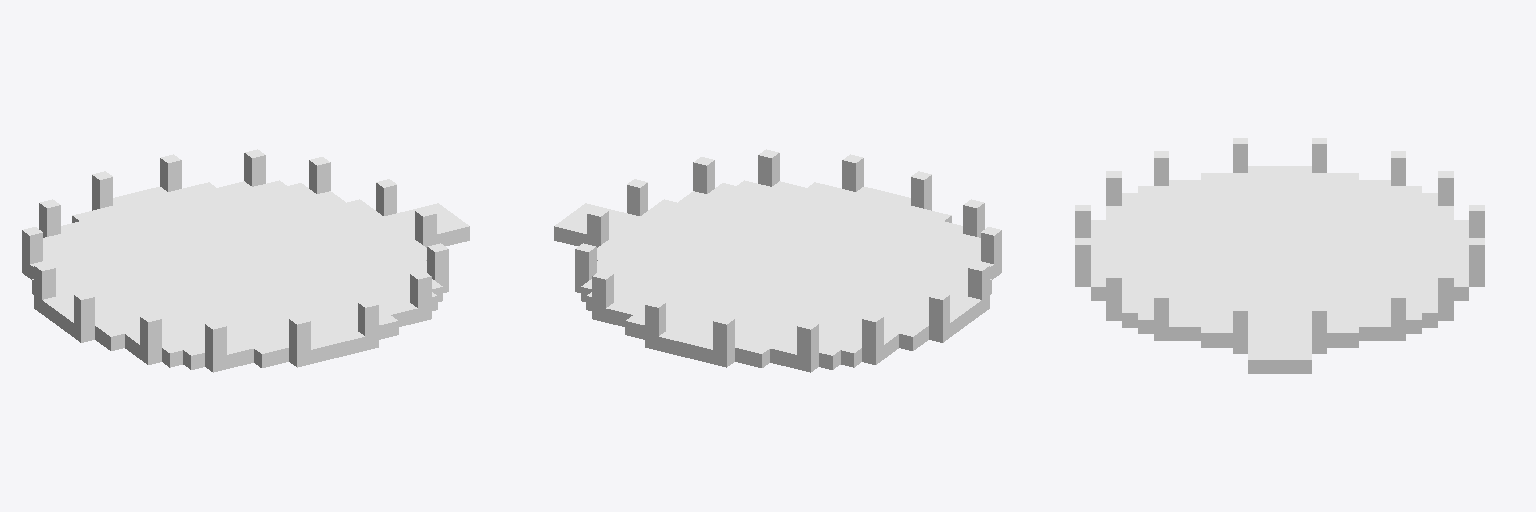
File: end4.obj
3 renders of one model, left to right at view 1: azimuth 30°, elevation 25°; view 2: azimuth 150°, elevation 25°; view 3: azimuth 270°, elevation 25°, orthographic.
Visible parts, largest first — view 1: object 1; view 2: object 1; view 3: object 1.
Boxes of the visible parts, box(x1,y1,x2,y2) form: object 1: box(22, 149, 469, 372); object 1: box(554, 149, 1001, 372); object 1: box(1075, 138, 1484, 373).
Bounding box in the file's own units: 2.9 × 0.3 × 2.6.